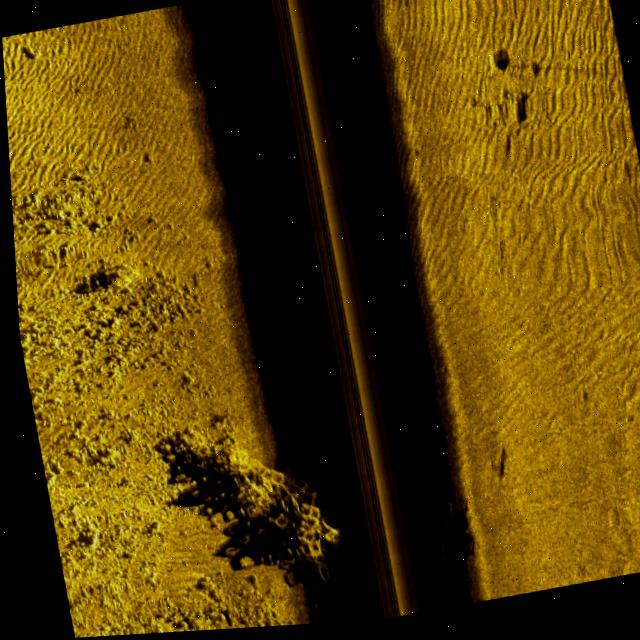artificial reef: (155, 405, 345, 610), (404, 484, 464, 576)
